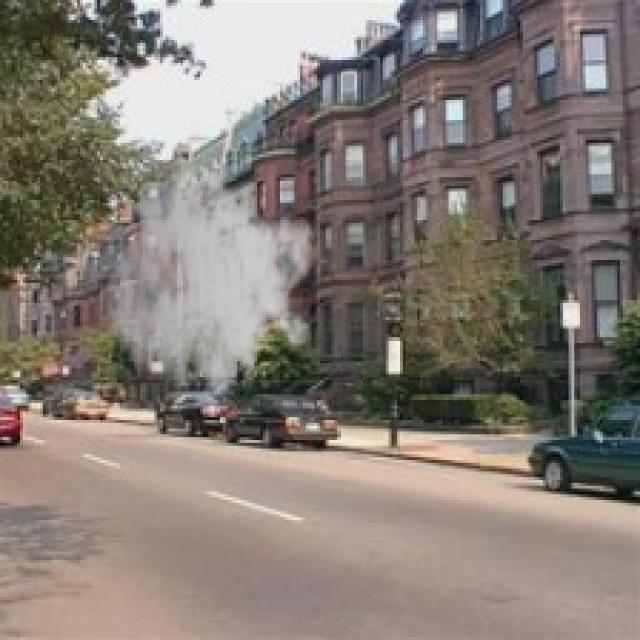Smoke: (106, 151, 320, 423)
